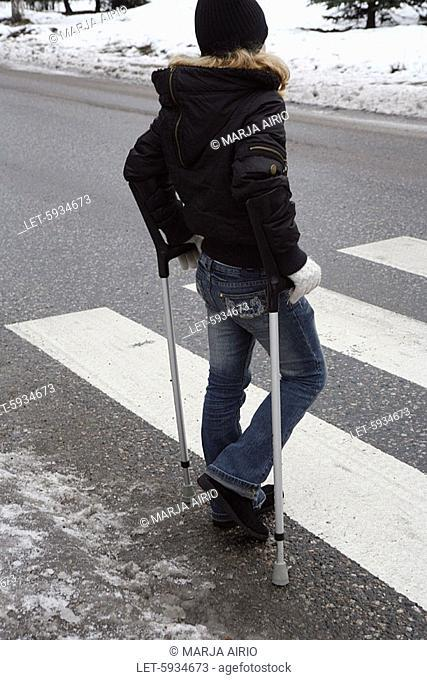crutches: (124, 0, 328, 587)
